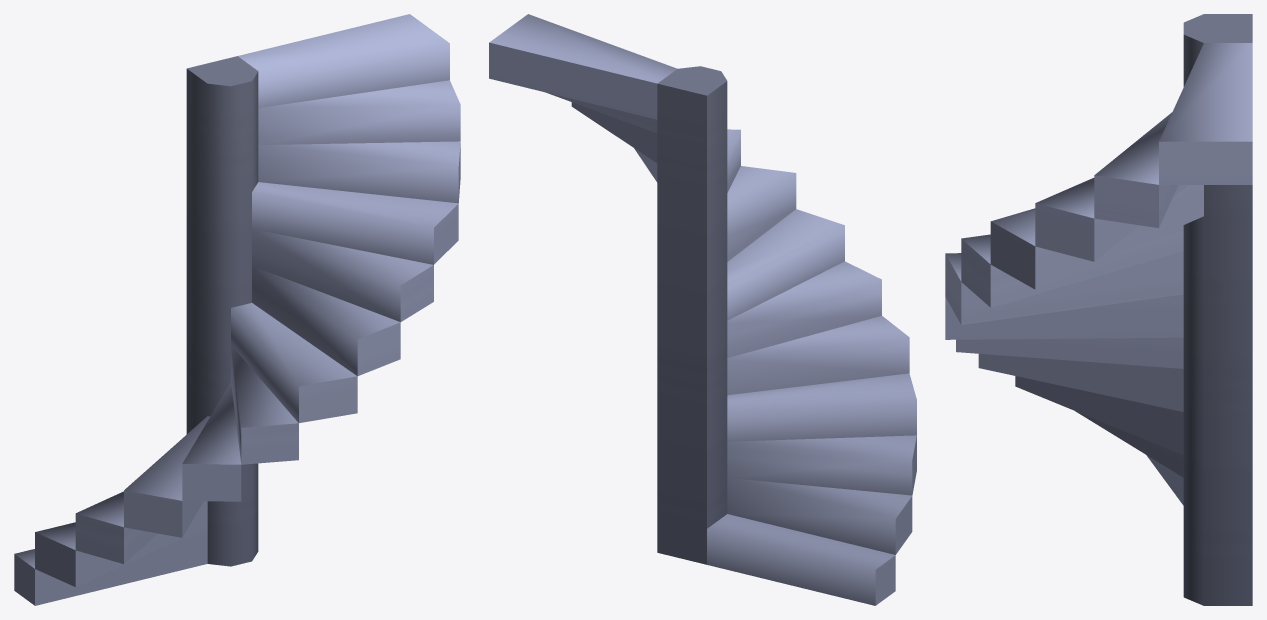
Rendered from stairs-stone-round.fbx.
3 views of the same model, side by side, from view 1: azimuth 30°, elevation 25°; view 2: azimuth 150°, elevation 25°; view 3: azimuth 270°, elevation 25° (orthographic). The views are drawn at different scales.
Visible parts, largest first — view 1: stairs-stone-round; view 2: stairs-stone-round; view 3: stairs-stone-round.
Part boxes in pixels (bbox=[...]): stairs-stone-round: bbox=[14, 14, 460, 605]; stairs-stone-round: bbox=[489, 14, 916, 605]; stairs-stone-round: bbox=[945, 14, 1252, 605].
Size of the model in its own units: 86.18 by 100 by 49.49.
1 material, 1 textured.
